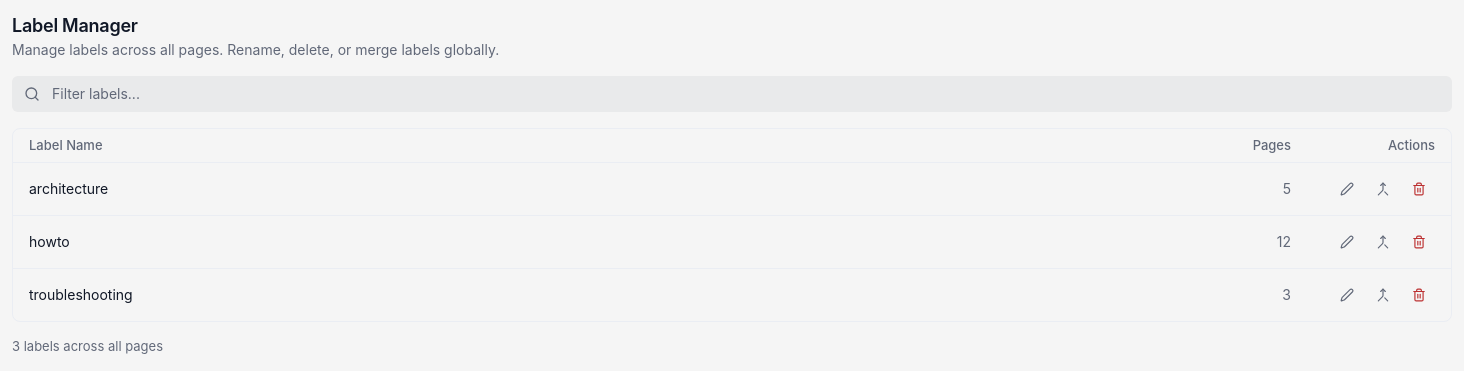
Test: LabelManager › shows rename input when edit button is clicked
Click the button with test id "rename-architecture": x=1347, y=189 [1331,173,1363,205]
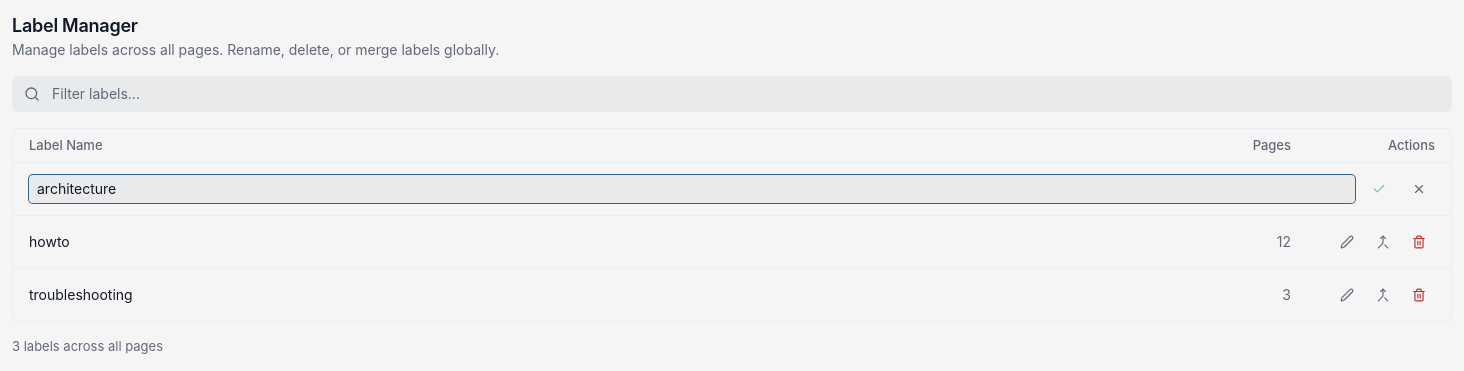
Now the field with test id "rename-input" holds "architecture", box [29,175,1355,203]
